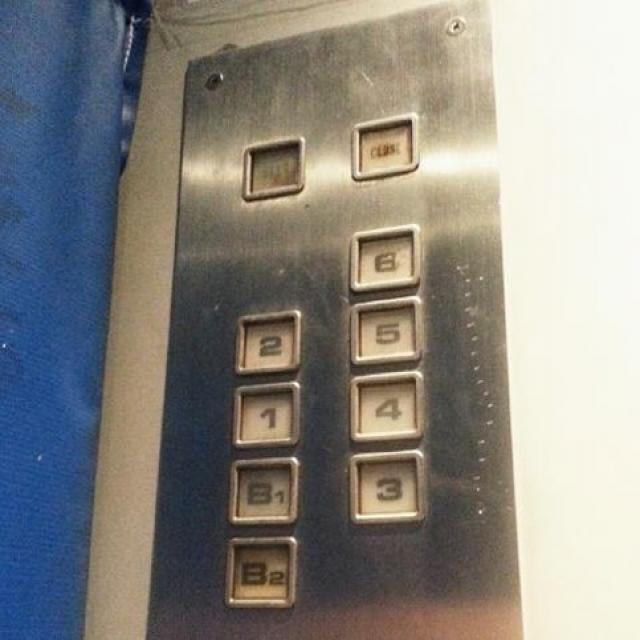1: (229, 378, 302, 450)
2: (234, 309, 304, 375)
3: (345, 446, 428, 526)
4: (346, 367, 425, 445)
5: (346, 292, 427, 367)
6: (346, 219, 423, 293)
B1: (224, 452, 299, 527)
B2: (222, 531, 300, 609)
blur: (348, 108, 422, 183), (238, 132, 308, 201)
